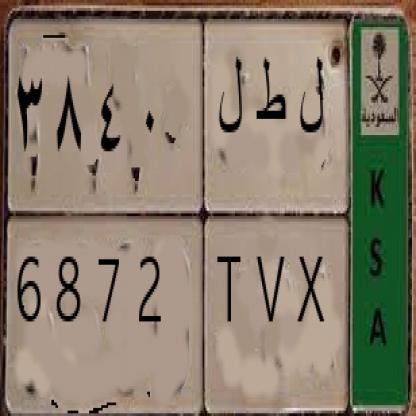english: (5, 190, 346, 412)
